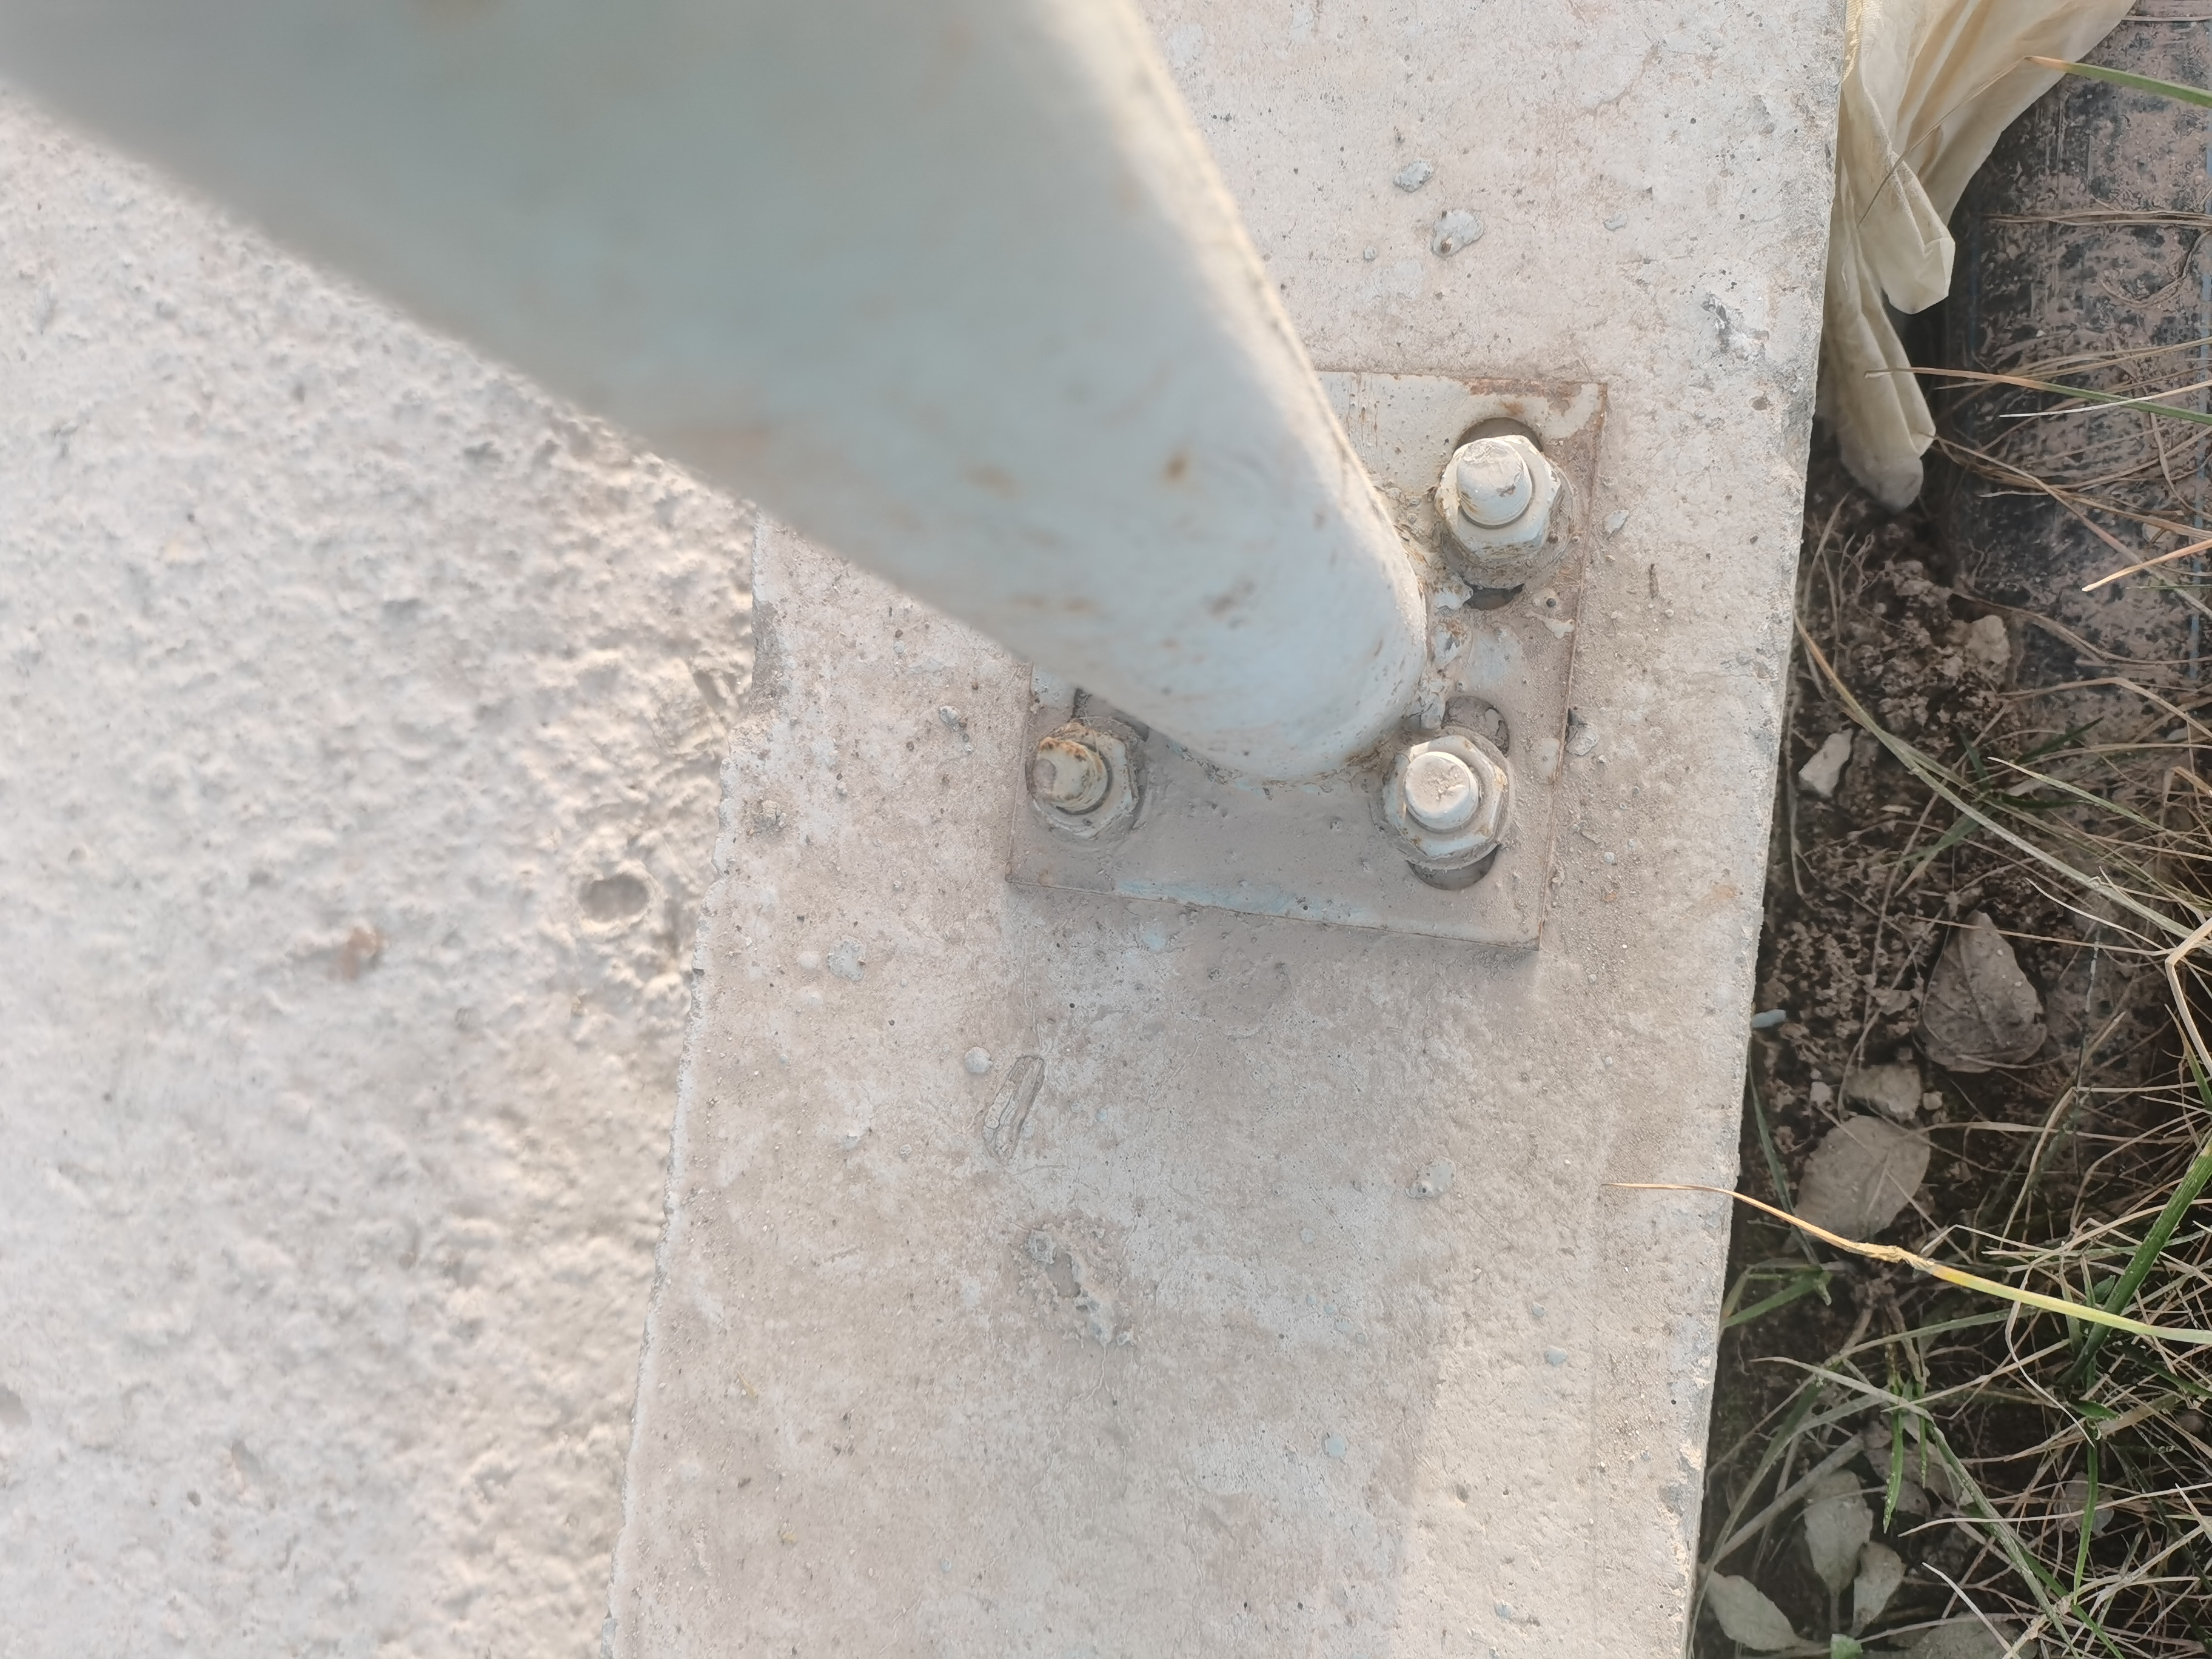bolt_b: (1428, 429, 1568, 568), (1372, 728, 1512, 864), (1021, 714, 1143, 843)
